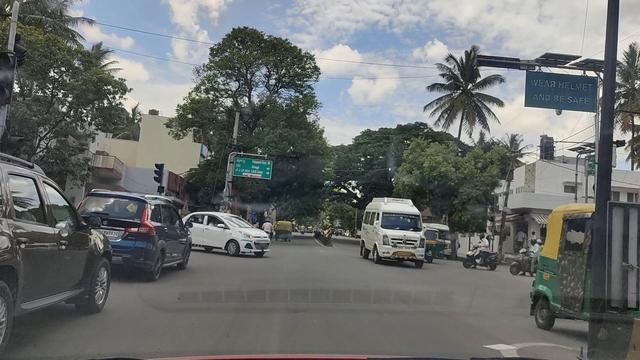LMV: (0, 154, 110, 341), (90, 183, 194, 277), (191, 202, 277, 267)
